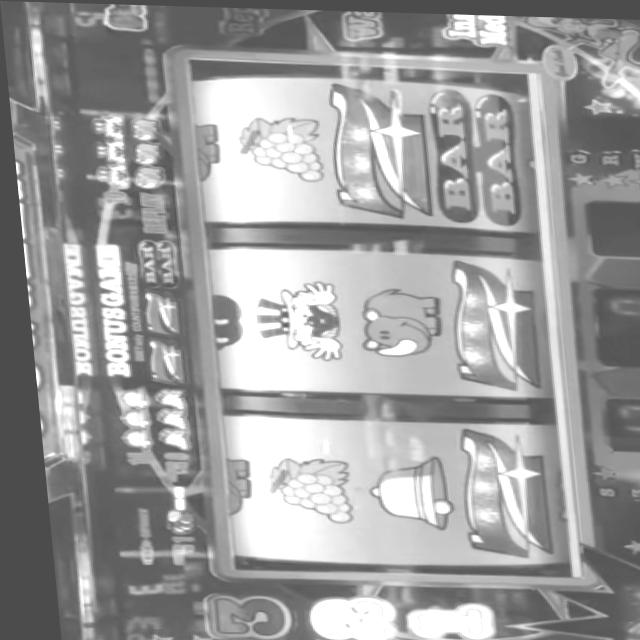bar: (422, 85, 521, 224), (131, 237, 175, 288)
cherry: (204, 291, 240, 349), (149, 508, 191, 534)
clown: (243, 277, 338, 360), (85, 113, 125, 138), (91, 162, 129, 187), (87, 139, 127, 162)
display: (178, 55, 577, 573)
elephant: (349, 284, 443, 356), (211, 455, 249, 515), (188, 119, 223, 181), (128, 165, 161, 187), (130, 141, 160, 163), (129, 117, 159, 138)
grape: (354, 451, 450, 527), (251, 454, 352, 522), (231, 113, 325, 181), (146, 427, 184, 449), (109, 384, 144, 405), (147, 386, 179, 407), (109, 407, 144, 426), (112, 428, 144, 448), (146, 408, 181, 426)
z: (322, 80, 430, 216), (447, 425, 547, 556), (441, 257, 537, 388), (134, 338, 182, 381), (136, 291, 180, 335)
